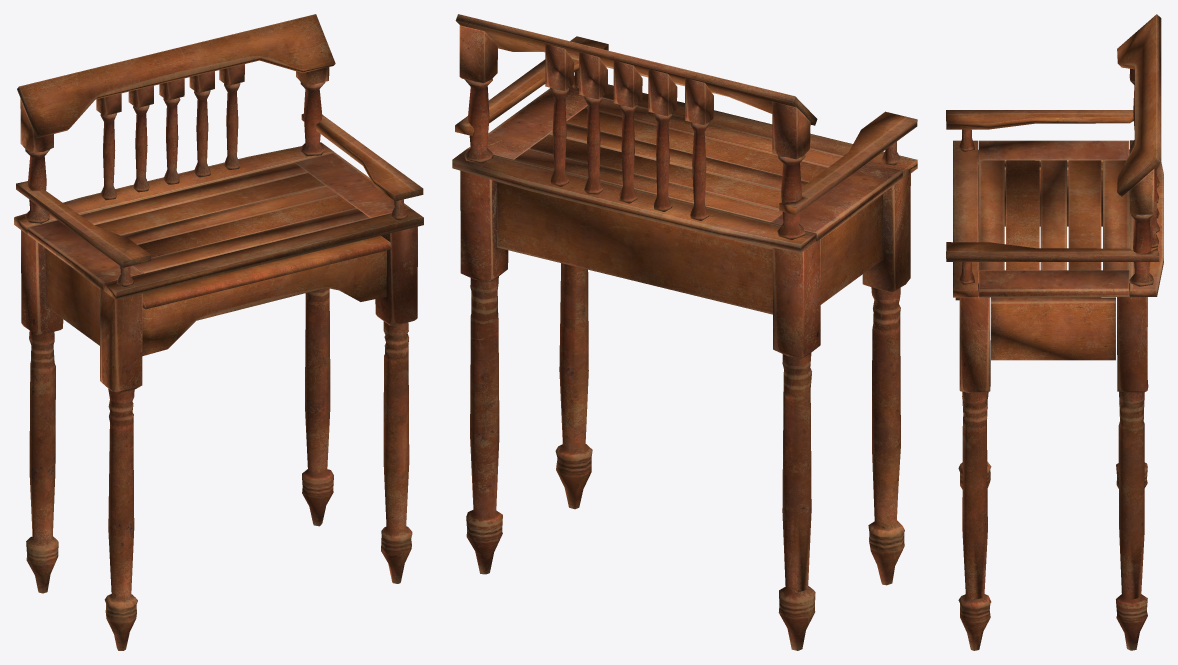
Rendered from Unusual Rustic Galleried Side Table.001.fbx.
3 views of the same model, side by side, from view 1: azimuth 30°, elevation 25°; view 2: azimuth 150°, elevation 25°; view 3: azimuth 270°, elevation 25° (orthographic). The views are drawn at different scales.
Visible parts, largest first — view 1: Unusual Rustic Galleried Side Table.001; view 2: Unusual Rustic Galleried Side Table.001; view 3: Unusual Rustic Galleried Side Table.001.
Boxes of the visible parts, bbox=[...] form: Unusual Rustic Galleried Side Table.001: bbox=[14, 14, 423, 650]; Unusual Rustic Galleried Side Table.001: bbox=[452, 14, 917, 650]; Unusual Rustic Galleried Side Table.001: bbox=[946, 14, 1163, 650].
Size of the model in its own units: 62 by 95.98 by 38.18.
Materials: 1 (1 with a texture image).
